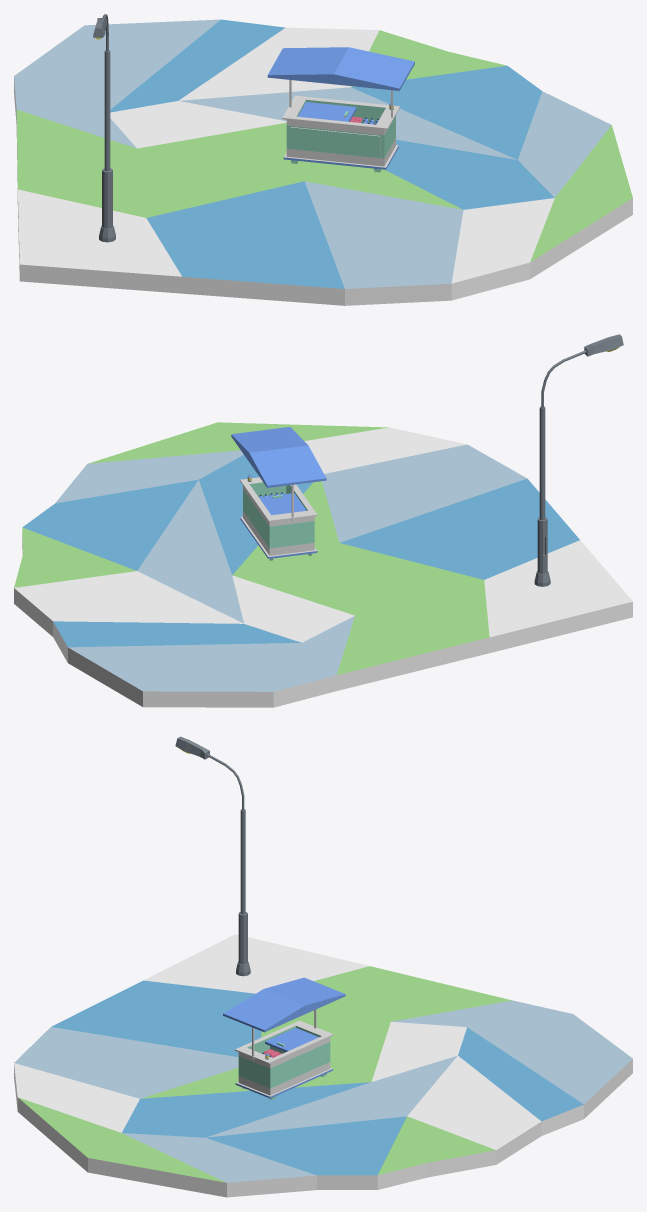
Rendered from 4sss.fbx.
3 views of the same model, one above another, from view 1: azimuth 30°, elevation 25°; view 2: azimuth 150°, elevation 25°; view 3: azimuth 270°, elevation 25° (orthographic). The views are drawn at different scales.
Visible parts, largest first — view 1: Cube.003; view 2: Cube.003; view 3: Cube.003.
Boxes of the visible parts, box(x1,y1,x2,y2) form: Cube.003: box(14, 14, 632, 305); Cube.003: box(14, 334, 632, 707); Cube.003: box(14, 736, 632, 1197).
Bounding box in the file's own units: 364 × 157 × 382.
